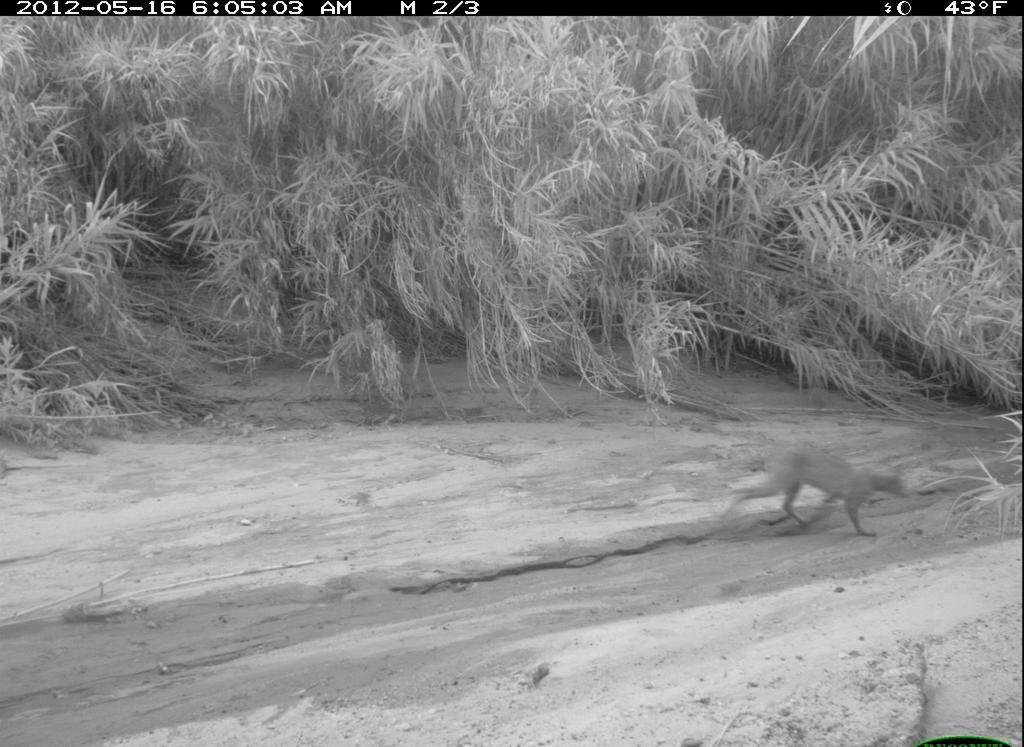bobcat: (716, 436, 917, 548)
